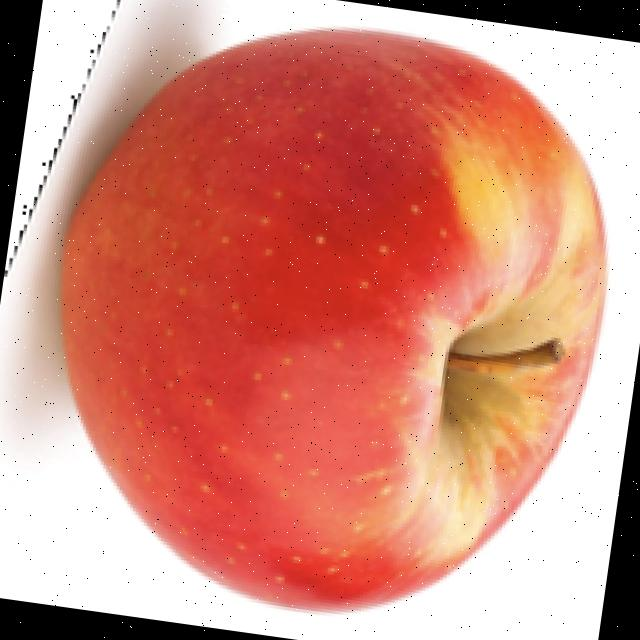apple: (0, 0, 613, 619)
